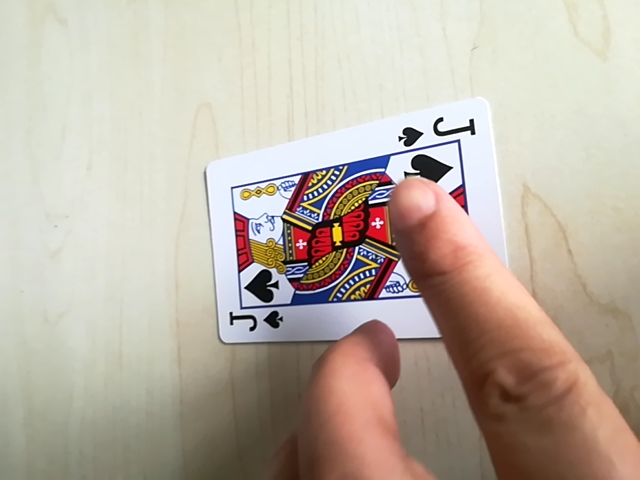ht j: (395, 113, 482, 150), (221, 305, 283, 342)
